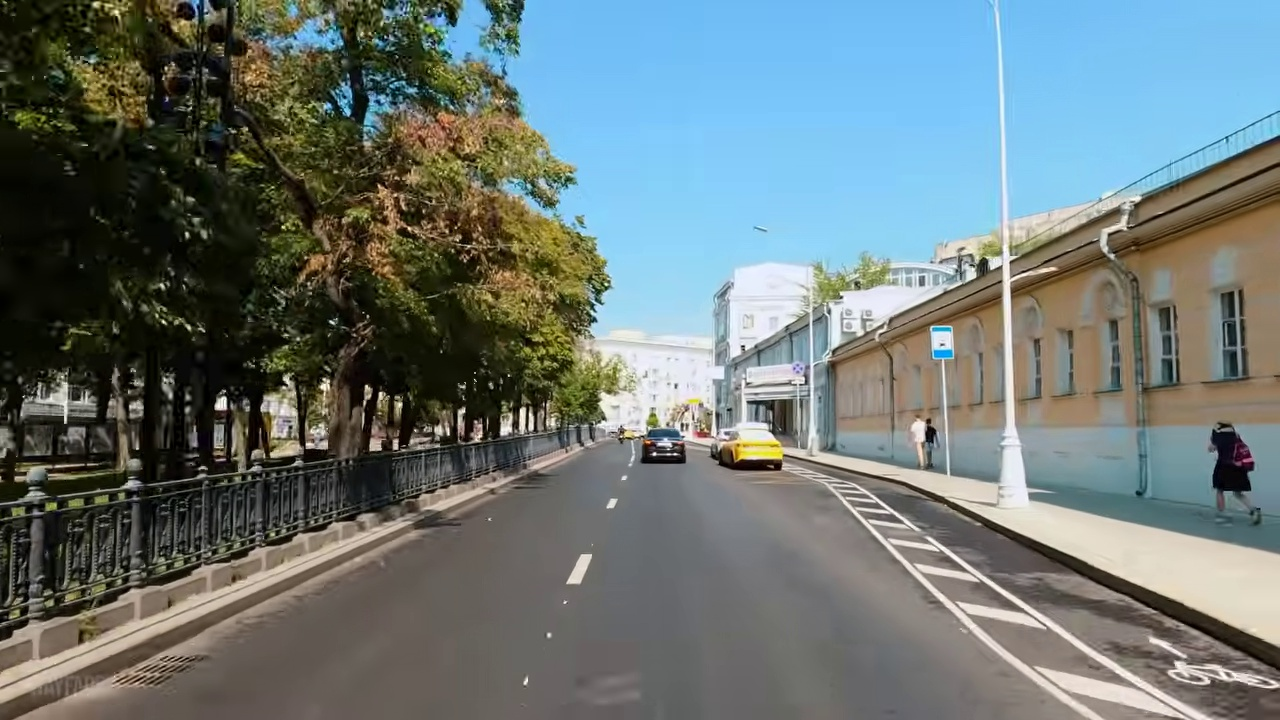acesa: (564, 554, 591, 585)
